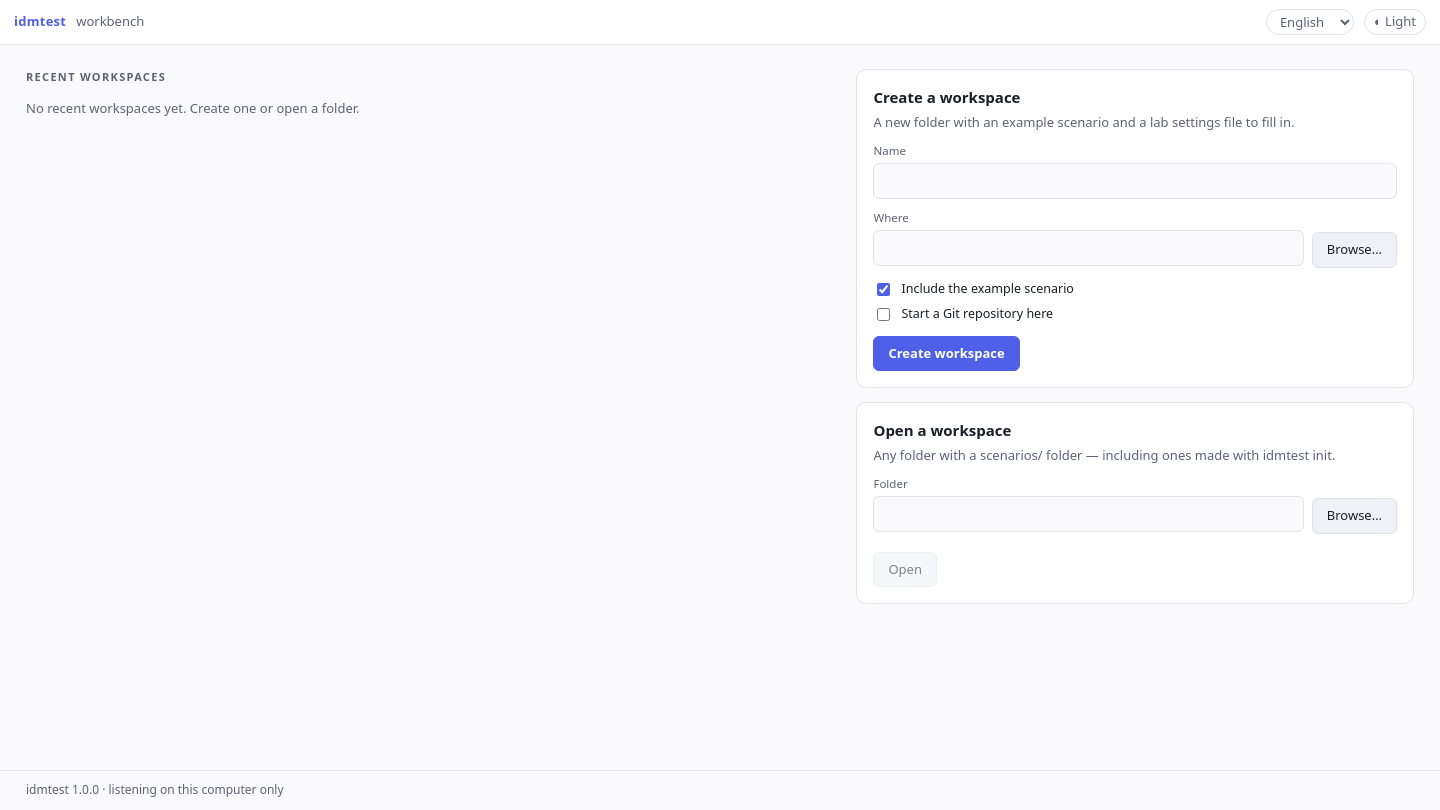
Test case: App › the language switch changes the visible text to Spanish, and back
The width and height of the screenshot is (1440, 810).
Check: the heading "Recent workspaces" is shown, box [26,69,166,84]
Check: the text "idmtest 1.0.0 · listening on this computer only" is shown, box [0,770,1439,809]
Select "Español" in the dropdown named "Language" at (1310, 22), box [1266,9,1354,35]
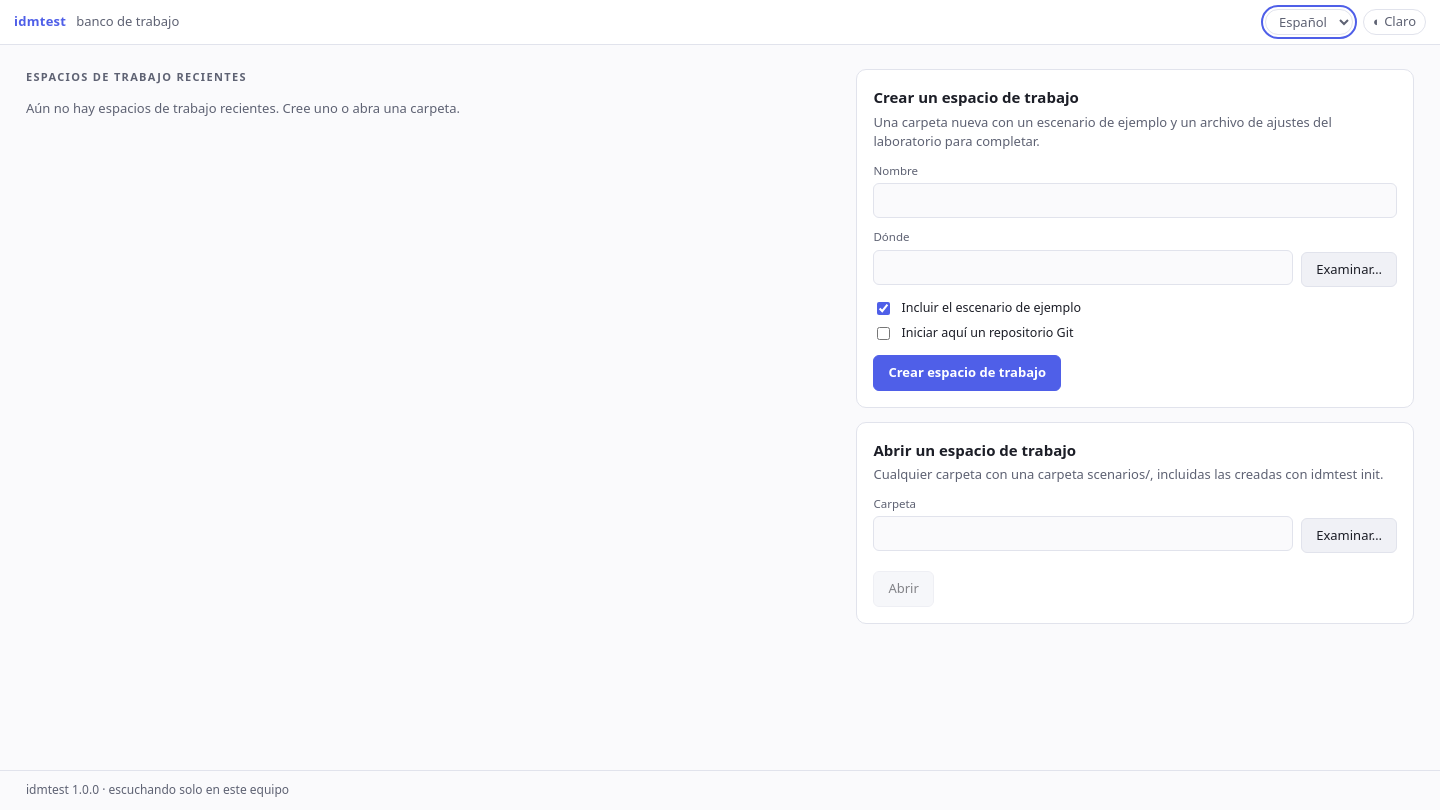
Check: the heading "Espacios de trabajo recientes" is shown, box [26,69,247,84]
Check: the form "Crear un espacio de trabajo" is shown, box [856,69,1414,408]
Check: the text "idmtest 1.0.0 · escuchando solo en este equipo" is shown, box [0,770,1439,809]
Select "English" in the dropdown named "Idioma" at (1309, 22), box [1265,9,1353,35]
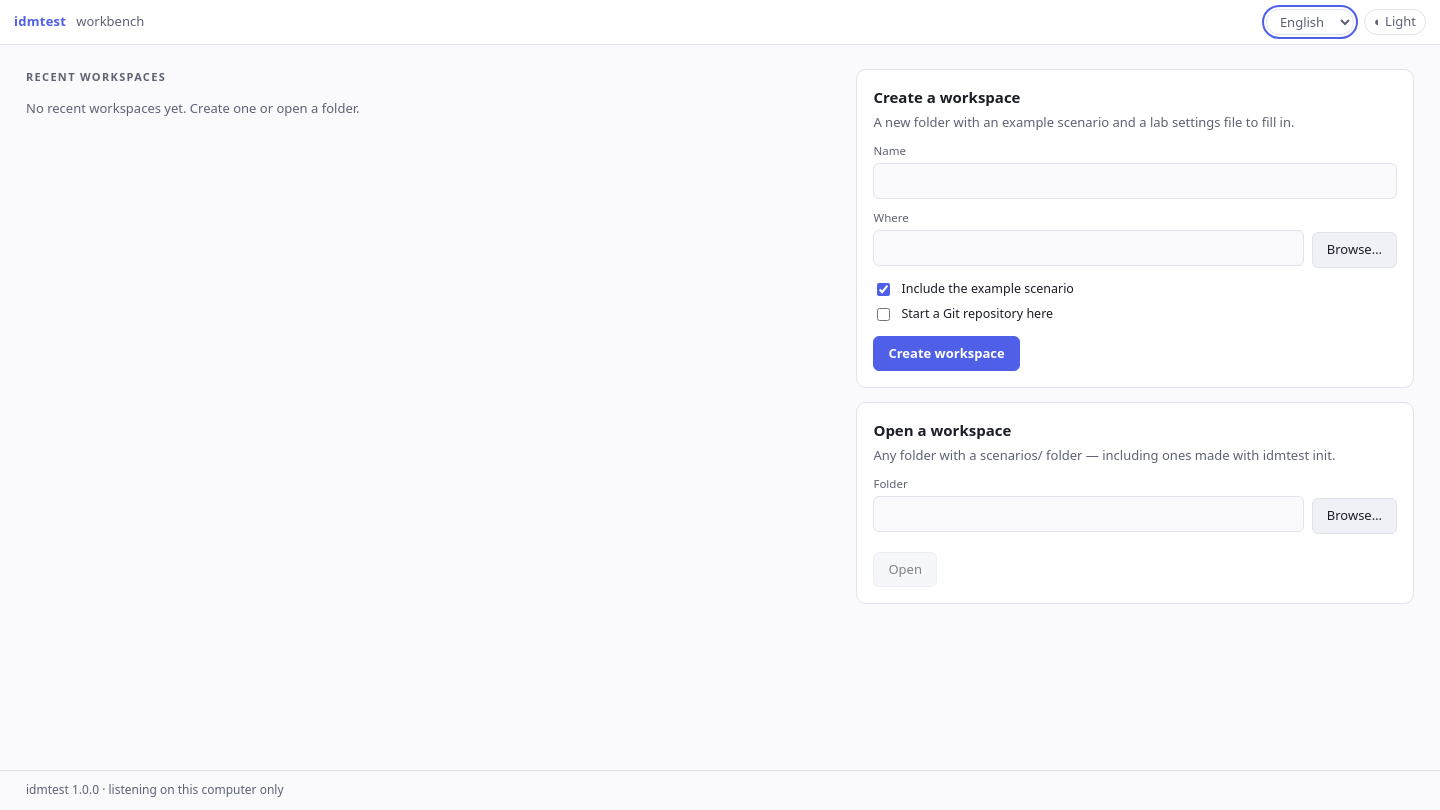
Check: the heading "Recent workspaces" is shown, box [26,69,166,84]
